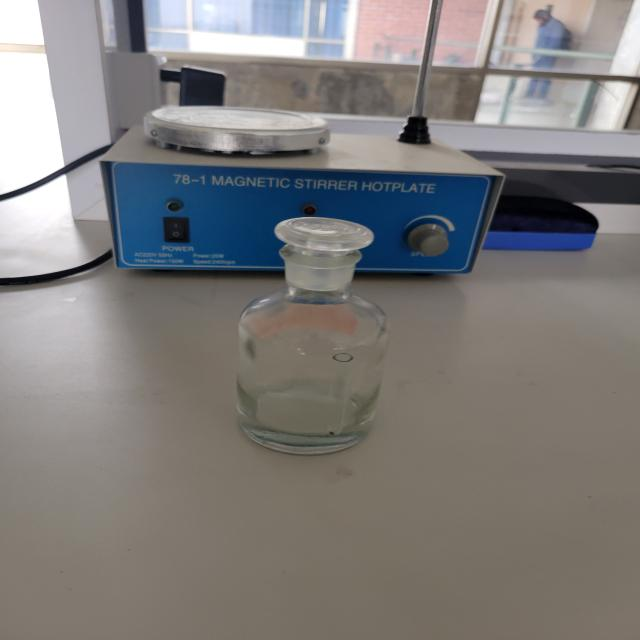Reagent_Bottle: (168, 178, 406, 503)
